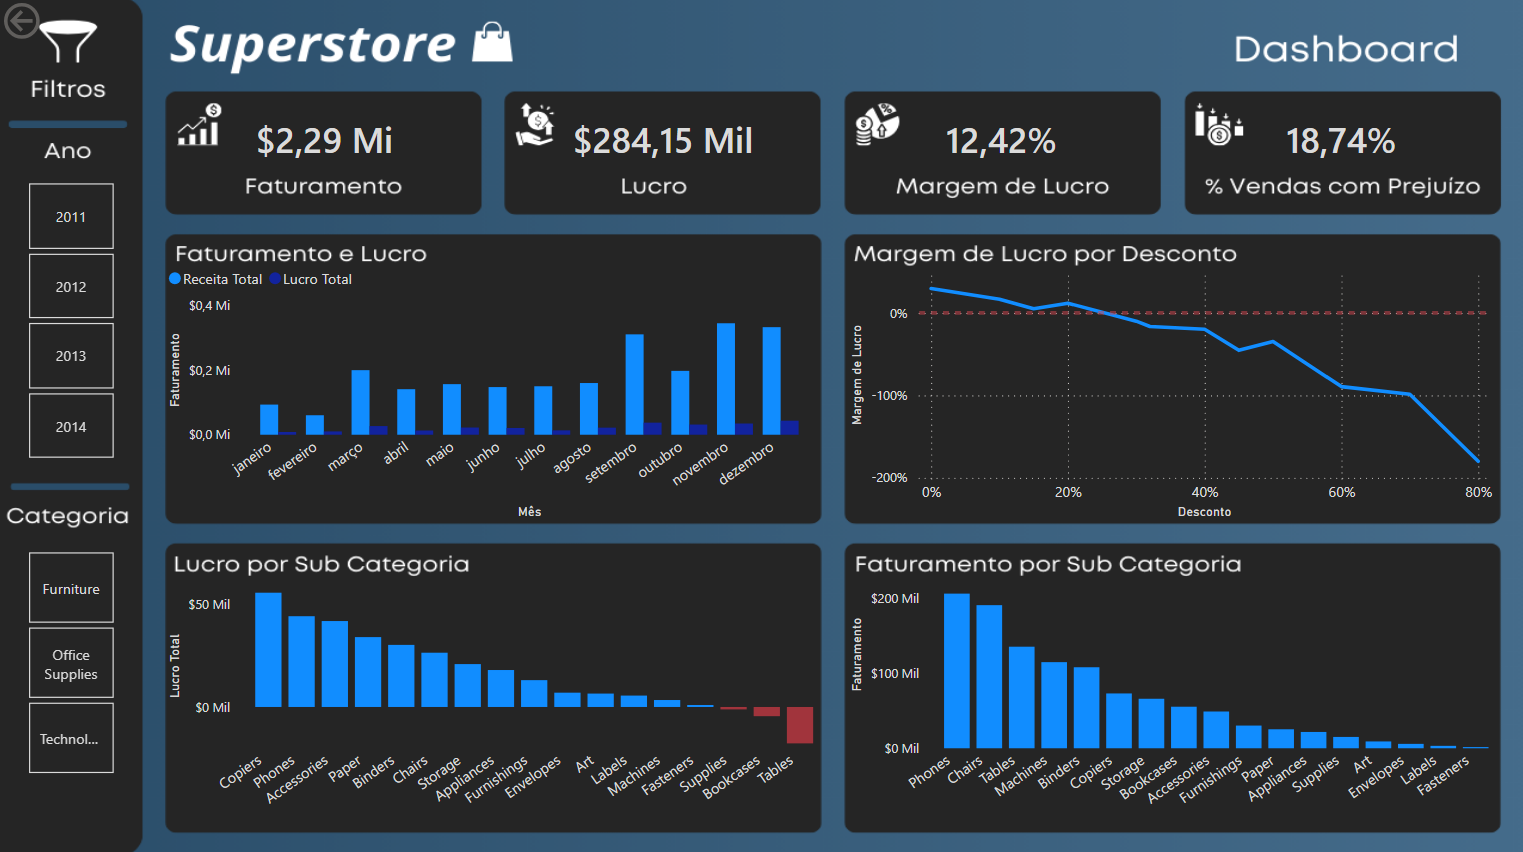

What the dashboard file says about the page in this screenshot:
{"tool":"powerbi","page":{"name":"Performance de Vendas e Rentabilidade","canvas":[1280,720],"ordinal":0},"visuals":[{"type":"cardVisual","fields":{"Data":["Medidas.Total Vendas"]},"box":[144,80.8,259.7,72.9],"z":0},{"type":"cardVisual","fields":{"Data":["Medidas.Margem de Lucro %"]},"box":[709.1,81.7,264.6,71],"z":1000},{"type":"cardVisual","fields":{"Data":["Medidas.% Vendas com Prejuízo"]},"box":[995,80.8,262.6,72.9],"z":2000},{"type":"cardVisual","fields":{"Data":["Medidas.Lucro Total"]},"box":[425,80.8,265.5,72.9],"z":3000},{"type":"clusteredColumnChart","fields":{"Category":["Dim_Calendar.Dim_Calendar.Variation.Hierarquia de datas.Ano","Dim_Calendar.Dim_Calendar.Variation.Hierarquia de datas.Mês"],"Y":["Medidas.Receita Total","Medidas.Lucro Total"]},"box":[137.1,215.9,554.4,225.7],"z":4000},{"type":"lineChart","fields":{"Category":["Fact_Sales.Discount"],"Y":["Medidas.% Margem de Lucro"]},"box":[709.1,215.9,548.6,225.7],"z":5000},{"type":"slicer","fields":{"Values":["Dim_Calendar.Dim_Calendar.Variation.Hierarquia de datas.Ano"]},"box":[0,148.8,120.6,244.1],"z":6000},{"type":"columnChart","fields":{"Category":["Dim_Products.Sub_Category"],"Y":["Medidas.Lucro Total"]},"box":[137.1,477.6,562.2,221.8],"z":7000},{"type":"clusteredColumnChart","fields":{"Category":["Dim_Products.Sub_Category"],"Y":["Medidas.Receita Total"]},"box":[709.1,458.1,556.4,241.2],"z":8000},{"type":"actionButton","box":[0,0,100,40],"z":10000},{"type":"slicer","fields":{"Values":["Dim_Products.Category"]},"box":[0,458.1,120.6,199.4],"z":12000}]}

Visuals, with their boxes on the page's 1280x720 design canvas (x1, y1, x2, y2). These are canvas units, not pixel positions in the 1523x852 screenshot, which may show the page scaled, cropped or inside an application window:
cardVisual - Medidas.Total Vendas: [left=144, top=81, right=404, bottom=154]
cardVisual - Medidas.Margem de Lucro %: [left=709, top=82, right=974, bottom=153]
cardVisual - Medidas.% Vendas com Prejuízo: [left=995, top=81, right=1258, bottom=154]
cardVisual - Medidas.Lucro Total: [left=425, top=81, right=690, bottom=154]
clusteredColumnChart - Dim_Calendar.Dim_Calendar.Variation.Hierarquia de datas.Ano x Dim_Calendar.Dim_Calendar.Variation.Hierarquia de datas.Mês: [left=137, top=216, right=692, bottom=442]
lineChart - Fact_Sales.Discount x Medidas.% Margem de Lucro: [left=709, top=216, right=1258, bottom=442]
slicer - Dim_Calendar.Dim_Calendar.Variation.Hierarquia de datas.Ano: [left=0, top=149, right=121, bottom=393]
columnChart - Dim_Products.Sub_Category x Medidas.Lucro Total: [left=137, top=478, right=699, bottom=699]
clusteredColumnChart - Dim_Products.Sub_Category x Medidas.Receita Total: [left=709, top=458, right=1266, bottom=699]
actionButton: [left=0, top=0, right=100, bottom=40]
slicer - Dim_Products.Category: [left=0, top=458, right=121, bottom=658]
